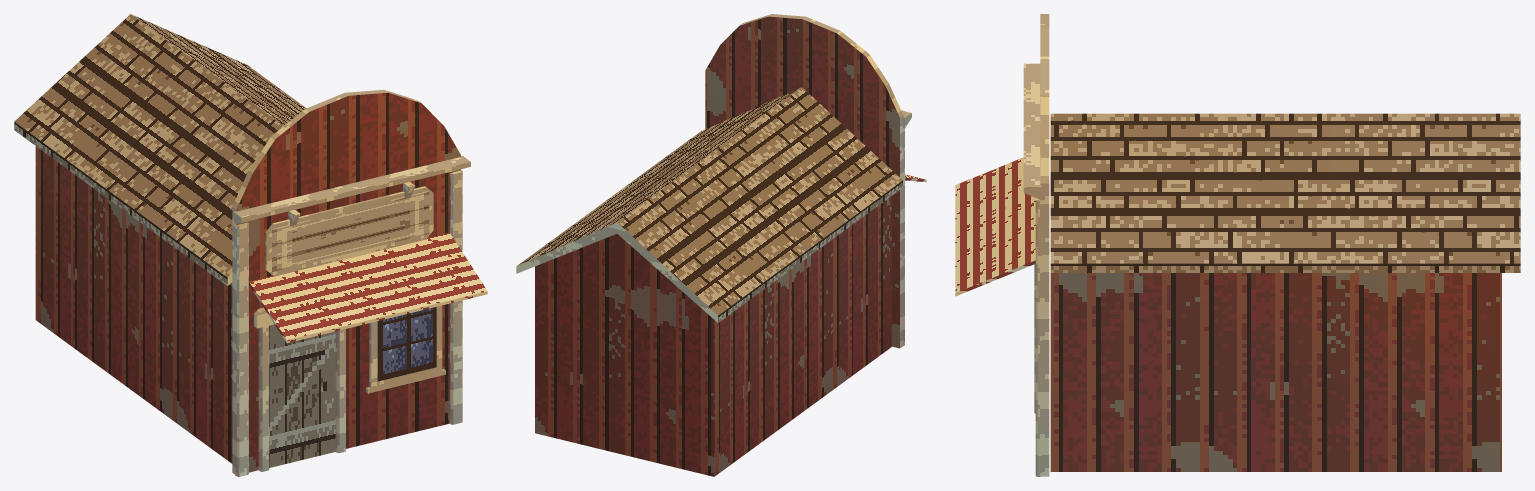
File: wtown.facade__c_arched.glb
The picture shows the model from 3 angles, left to right: view 1: azimuth 30°, elevation 25°; view 2: azimuth 150°, elevation 25°; view 3: azimuth 270°, elevation 25°; orthographic projection. The views are drawn at different scales.
Parts seen in each view (by area): view 1: kit_roof, kit_body, kit_front, kit_card_panes, kit_trim, kit_awning, kit_windows; view 2: kit_body, kit_roof, kit_front, kit_trim; view 3: kit_body, kit_roof, kit_awning, kit_trim, kit_front.
Boxes of the visible parts, left/top/right/bottom form: kit_roof: left=14, top=14, right=306, bottom=285; kit_body: left=35, top=146, right=232, bottom=463; kit_front: left=232, top=89, right=460, bottom=474; kit_card_panes: left=269, top=192, right=436, bottom=467; kit_trim: left=233, top=156, right=470, bottom=476; kit_awning: left=249, top=232, right=487, bottom=343; kit_windows: left=366, top=305, right=445, bottom=393; kit_body: left=535, top=196, right=891, bottom=476; kit_roof: left=516, top=87, right=902, bottom=322; kit_front: left=705, top=14, right=903, bottom=348; kit_trim: left=901, top=110, right=911, bottom=346; kit_body: left=1050, top=273, right=1501, bottom=471; kit_roof: left=1050, top=113, right=1520, bottom=272; kit_awning: left=955, top=157, right=1035, bottom=296; kit_trim: left=1023, top=63, right=1041, bottom=476; kit_front: left=1040, top=14, right=1049, bottom=476.
Bounding box in the file's own units: 3.94 × 5.7 × 7.52.
7 materials, 7 textured.
